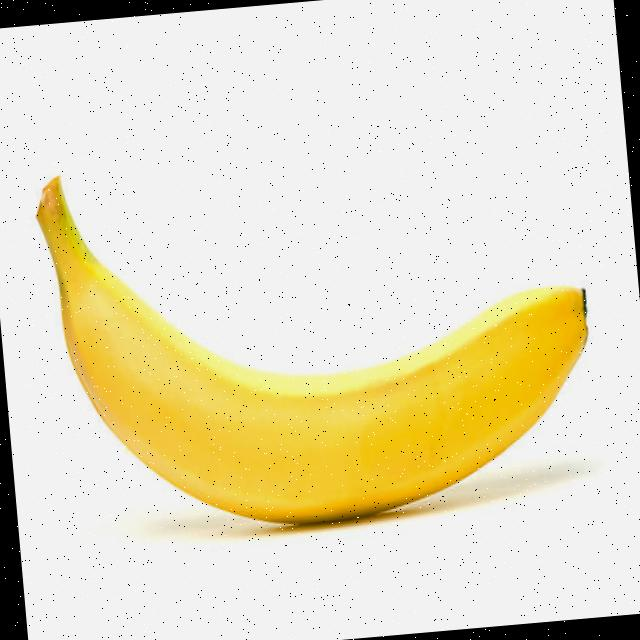Ripe: (27, 119, 610, 550)
